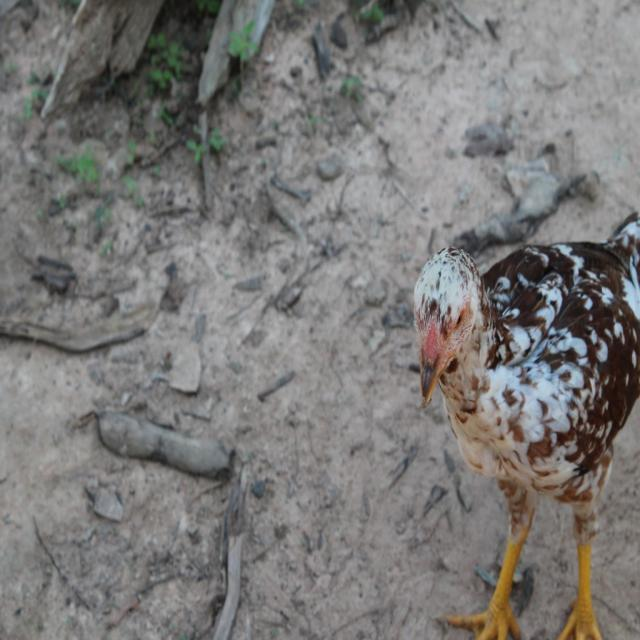Chicken: (416, 245, 640, 640)
